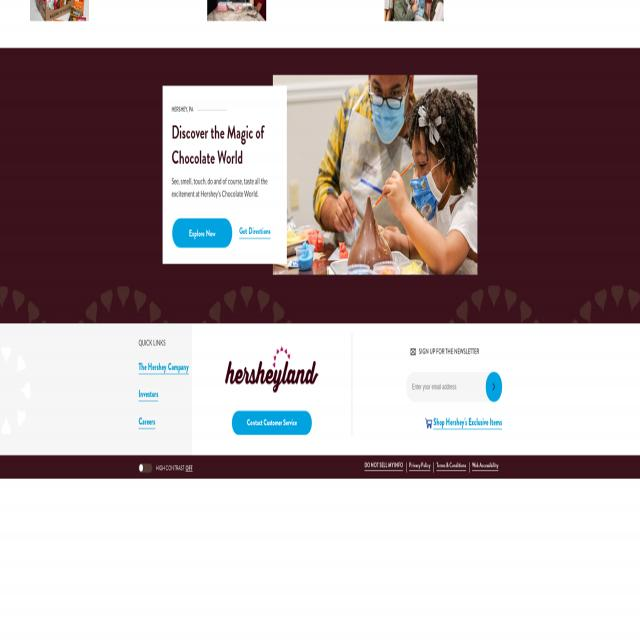button: (273, 75, 477, 275), (224, 344, 320, 395), (232, 410, 312, 436), (172, 218, 232, 247), (384, 0, 444, 22), (30, 0, 89, 22), (208, 0, 266, 22), (486, 372, 502, 402), (425, 417, 433, 429), (411, 348, 416, 355)
field: (406, 372, 502, 402)
